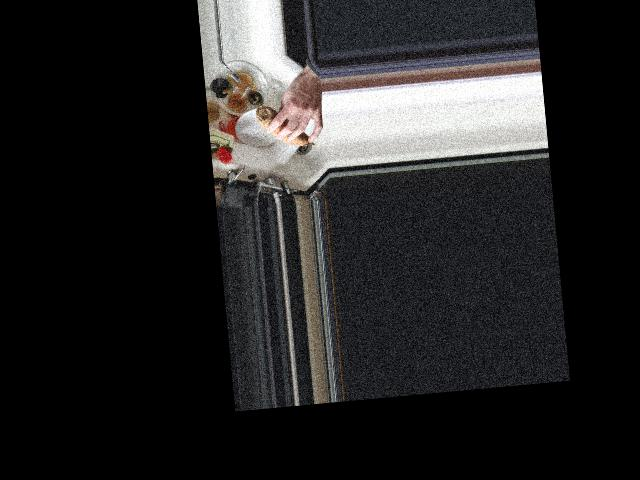sweet_potato: (257, 101, 315, 149)
